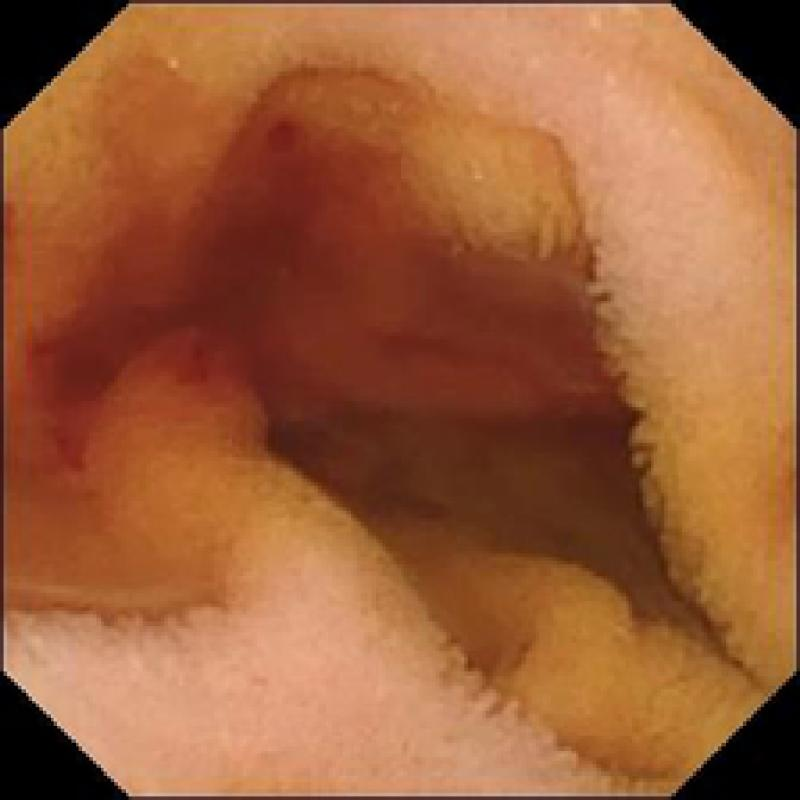bleeding: (28, 100, 610, 464)
